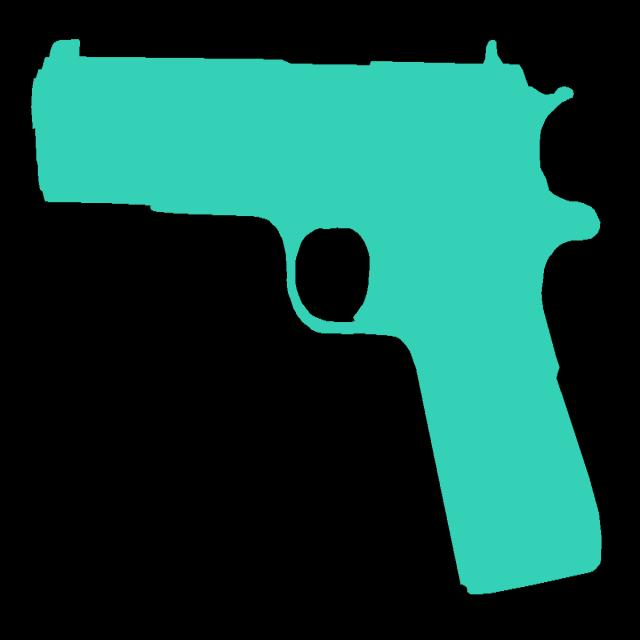pistol: (31, 36, 602, 596)
